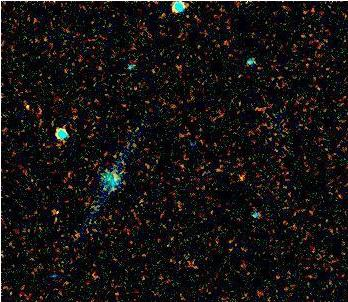star: (227, 163, 257, 193)
